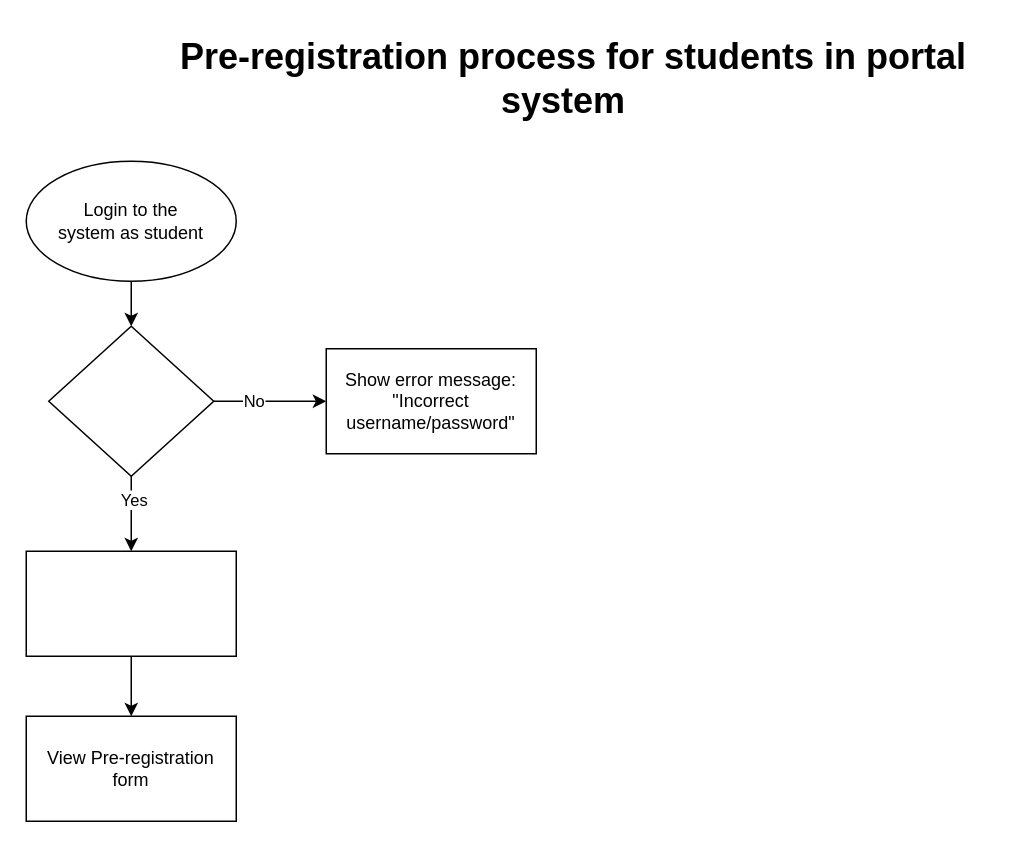
Some shapes in this 1035 by 848 pixel diagram are drawn without their labels. The shapes that lost their labels are listed below. From the top down, each one's centre as x and y in pixels, then its label:
At [130,400]: "Are login credentials valid?".
At [130,603]: "View Dashboard".
